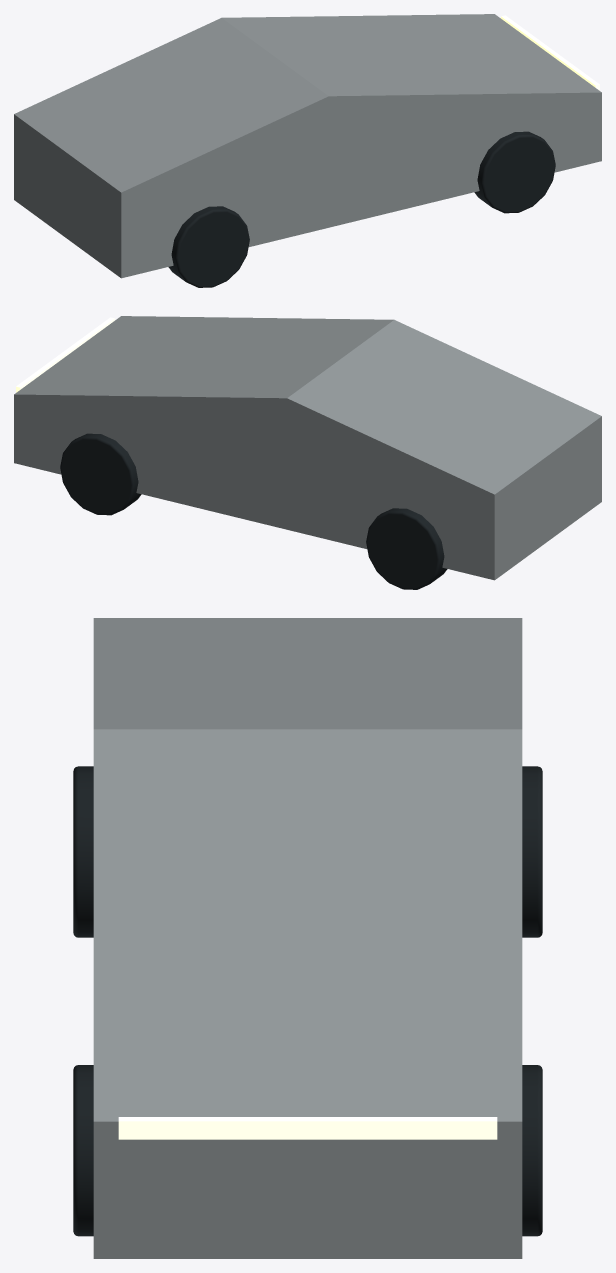
File: cybertruck-ef509a76.glb
The picture shows the model from 3 angles, top to bottom: view 1: azimuth 30°, elevation 25°; view 2: azimuth 150°, elevation 25°; view 3: azimuth 270°, elevation 25°; orthographic projection. The views are drawn at different scales.
Visible parts, largest first — view 1: Inspect · Cybertruck model · stainless body, Inspect · Cybertruck model · wheel, Inspect · Cybertruck model · wheel.002, Inspect · Cybertruck model · light bar; view 2: Inspect · Cybertruck model · stainless body, Inspect · Cybertruck model · wheel.001, Inspect · Cybertruck model · wheel.003, Inspect · Cybertruck model · light bar; view 3: Inspect · Cybertruck model · stainless body, Inspect · Cybertruck model · light bar, Inspect · Cybertruck model · wheel, Inspect · Cybertruck model · wheel.001, Inspect · Cybertruck model · wheel.002, Inspect · Cybertruck model · wheel.003.
Boxes of the visible parts, box(x1,y1,x2,y2) form: Inspect · Cybertruck model · stainless body: box(14, 14, 601, 278); Inspect · Cybertruck model · wheel: box(168, 206, 249, 287); Inspect · Cybertruck model · wheel.002: box(474, 131, 555, 213); Inspect · Cybertruck model · light bar: box(501, 15, 599, 90); Inspect · Cybertruck model · stainless body: box(14, 316, 601, 580); Inspect · Cybertruck model · wheel.001: box(366, 508, 447, 589); Inspect · Cybertruck model · wheel.003: box(60, 433, 141, 515); Inspect · Cybertruck model · light bar: box(16, 317, 114, 392); Inspect · Cybertruck model · stainless body: box(93, 618, 522, 1258); Inspect · Cybertruck model · light bar: box(118, 1117, 497, 1139); Inspect · Cybertruck model · wheel: box(73, 766, 93, 937); Inspect · Cybertruck model · wheel.001: box(522, 766, 542, 937); Inspect · Cybertruck model · wheel.002: box(73, 1065, 93, 1236); Inspect · Cybertruck model · wheel.003: box(522, 1065, 542, 1236).
Bounding box in the file's own units: 0.444 × 0.139 × 0.186.
